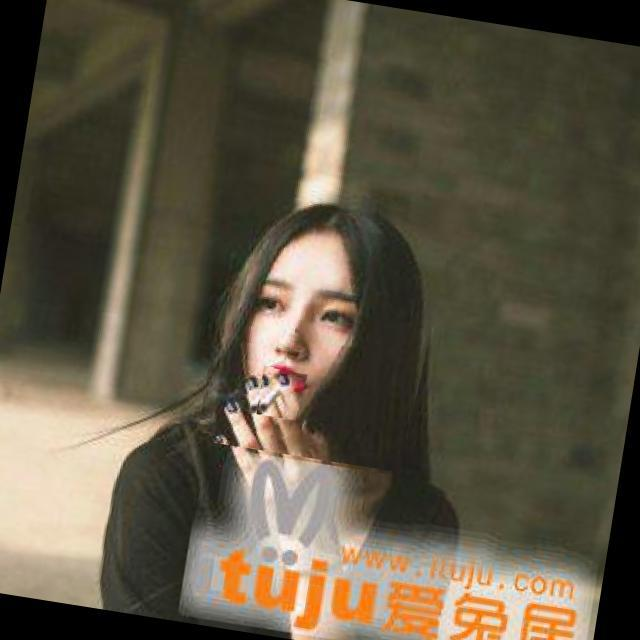cigarette: (256, 366, 308, 421)
